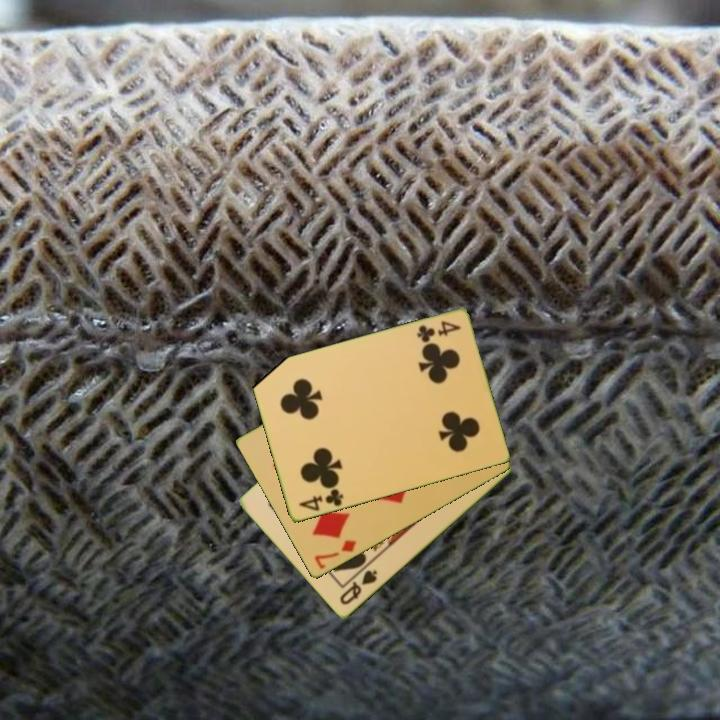4c: (295, 485, 346, 514), (413, 317, 464, 345)
7d: (311, 537, 359, 572)
Qs: (336, 567, 380, 608)
